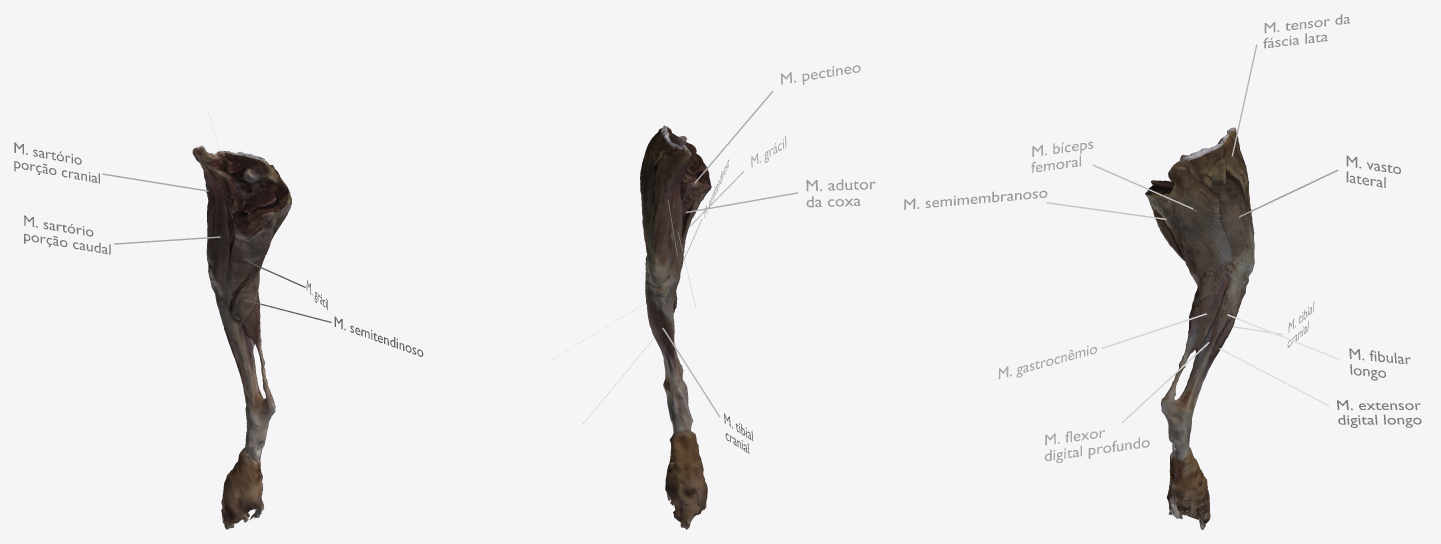
Rendered from mm. superficiais pelvico FEITO.glb.
3 renders of one model, left to right at view 1: azimuth 30°, elevation 25°; view 2: azimuth 150°, elevation 25°; view 3: azimuth 270°, elevation 25°, orthographic. The views are drawn at different scales.
Parts seen in each view (by area): view 1: 3DModel_LowPoly.003, Texto.016, Texto.008; view 2: 3DModel_LowPoly.003, Texto.012; view 3: 3DModel_LowPoly.003, Texto.045, Texto.040, Texto.035, Texto.004.
Boxes of the visible parts, <box> form: 3DModel_LowPoly.003: <box>192,145,291,529</box>; Texto.016: <box>24,215,110,254</box>; Texto.008: <box>14,142,99,183</box>; 3DModel_LowPoly.003: <box>640,125,711,529</box>; Texto.012: <box>806,179,875,207</box>; 3DModel_LowPoly.003: <box>1145,127,1254,529</box>; Texto.045: <box>1044,430,1149,462</box>; Texto.040: <box>1337,400,1421,427</box>; Texto.035: <box>1263,14,1350,48</box>; Texto.004: <box>904,190,1047,209</box>.
Bounding box in the file's own units: 1.98 × 3.4 × 3.24.
Materials: 1 (1 with a texture image).
